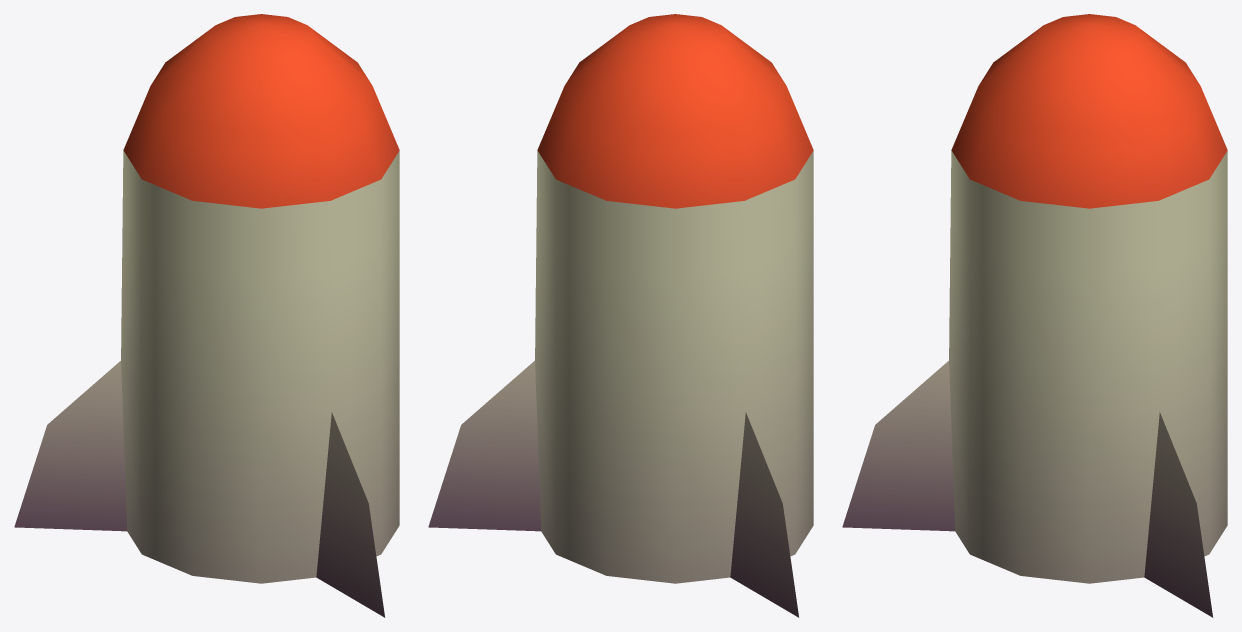
Rendered from Rocket_01.fbx.
3 renders of one model, left to right at view 1: azimuth 30°, elevation 25°; view 2: azimuth 150°, elevation 25°; view 3: azimuth 270°, elevation 25°, orthographic.
Visible parts, largest first — view 1: Rocket; view 2: Rocket; view 3: Rocket.
Boxes of the visible parts, left/top/right/bottom form: Rocket: left=14, top=14, right=399, bottom=617; Rocket: left=428, top=14, right=813, bottom=617; Rocket: left=842, top=14, right=1227, bottom=617.
Bounding box in the file's own units: 0.3642 × 0.4714 × 0.3278.
